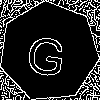G: (24, 26, 69, 78)
